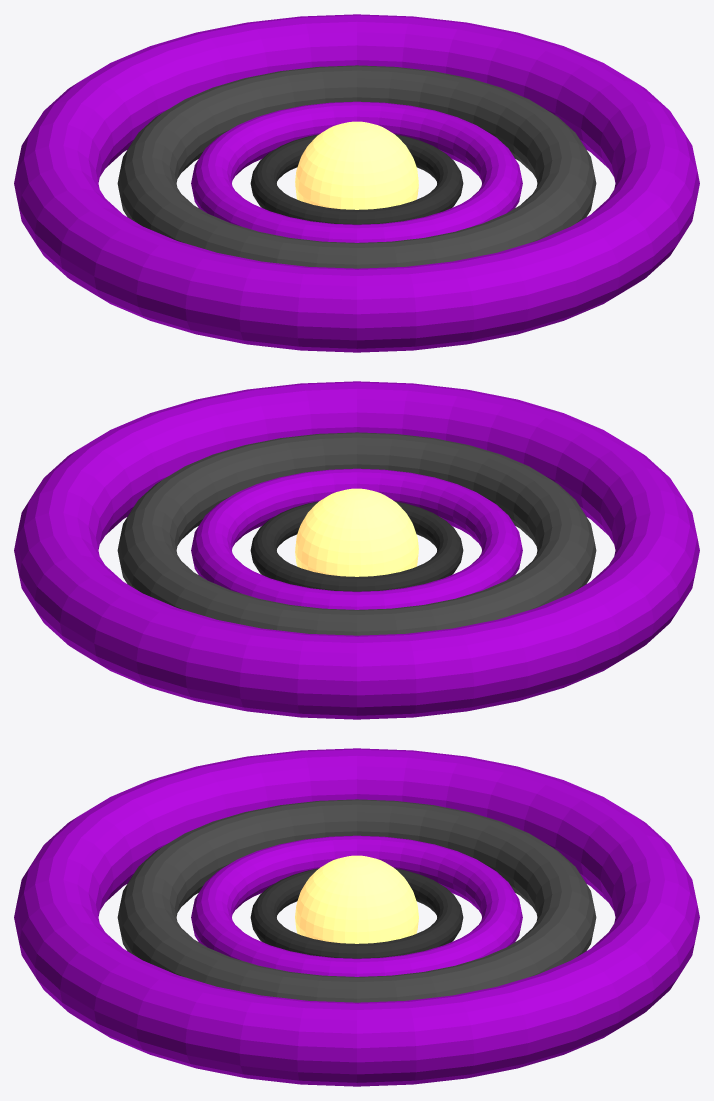
File: future_circle_array_scifi.fbx
3 renders of one model, top to bottom at view 1: azimuth 30°, elevation 25°; view 2: azimuth 150°, elevation 25°; view 3: azimuth 270°, elevation 25°, orthographic.
Visible parts, largest first — view 1: Torus, Torus_1, Torus_2, Sphere, Torus_3; view 2: Torus, Torus_1, Torus_2, Sphere, Torus_3; view 3: Torus, Torus_1, Torus_2, Sphere, Torus_3.
Boxes of the visible parts, x1,y1,x2,y2 form: Torus: (14,14,699,352); Torus_1: (117,65,596,268); Torus_2: (191,101,522,242); Sphere: (295,121,418,209); Torus_3: (250,134,463,224); Torus: (14,381,699,719); Torus_1: (117,432,596,635); Torus_2: (191,468,522,609); Sphere: (295,488,418,576); Torus_3: (250,501,463,591); Torus: (14,748,699,1086); Torus_1: (117,799,596,1002); Torus_2: (191,835,522,976); Sphere: (295,855,418,943); Torus_3: (250,868,463,958).
Bounding box in the file's own units: 726 × 131 × 726.
